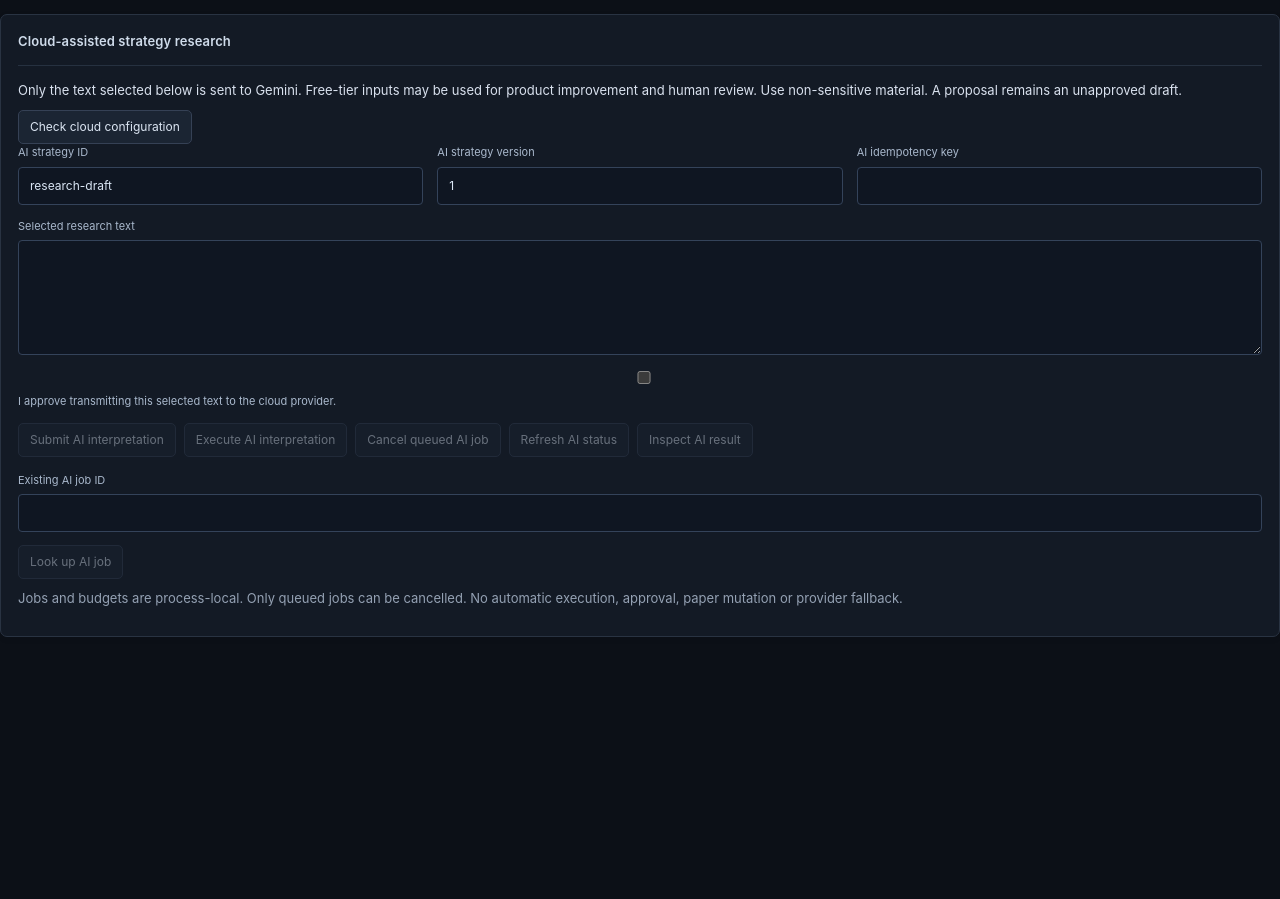
it: cloud research UI and authenticated routes › requires explicit configuration, input selection, consent and execution
Check: the button "Submit AI interpretation" is disabled, box [18,422,176,456]
Click the button "Check cloud configuration" at (105, 127), box [18,110,192,144]
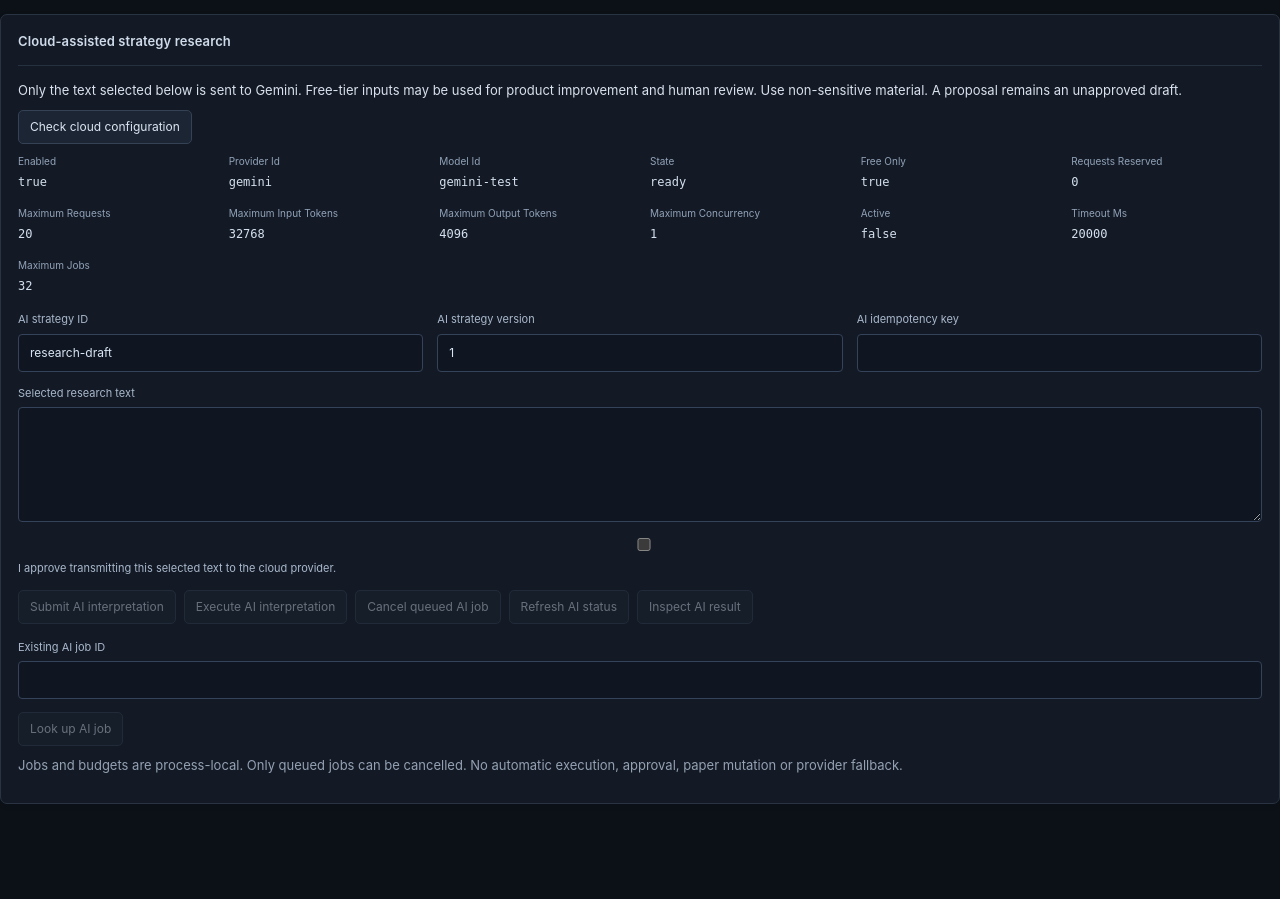
Type "selected-1" into the field labelled "AI idempotency key" at (1059, 352), box [857,334,1262,372]
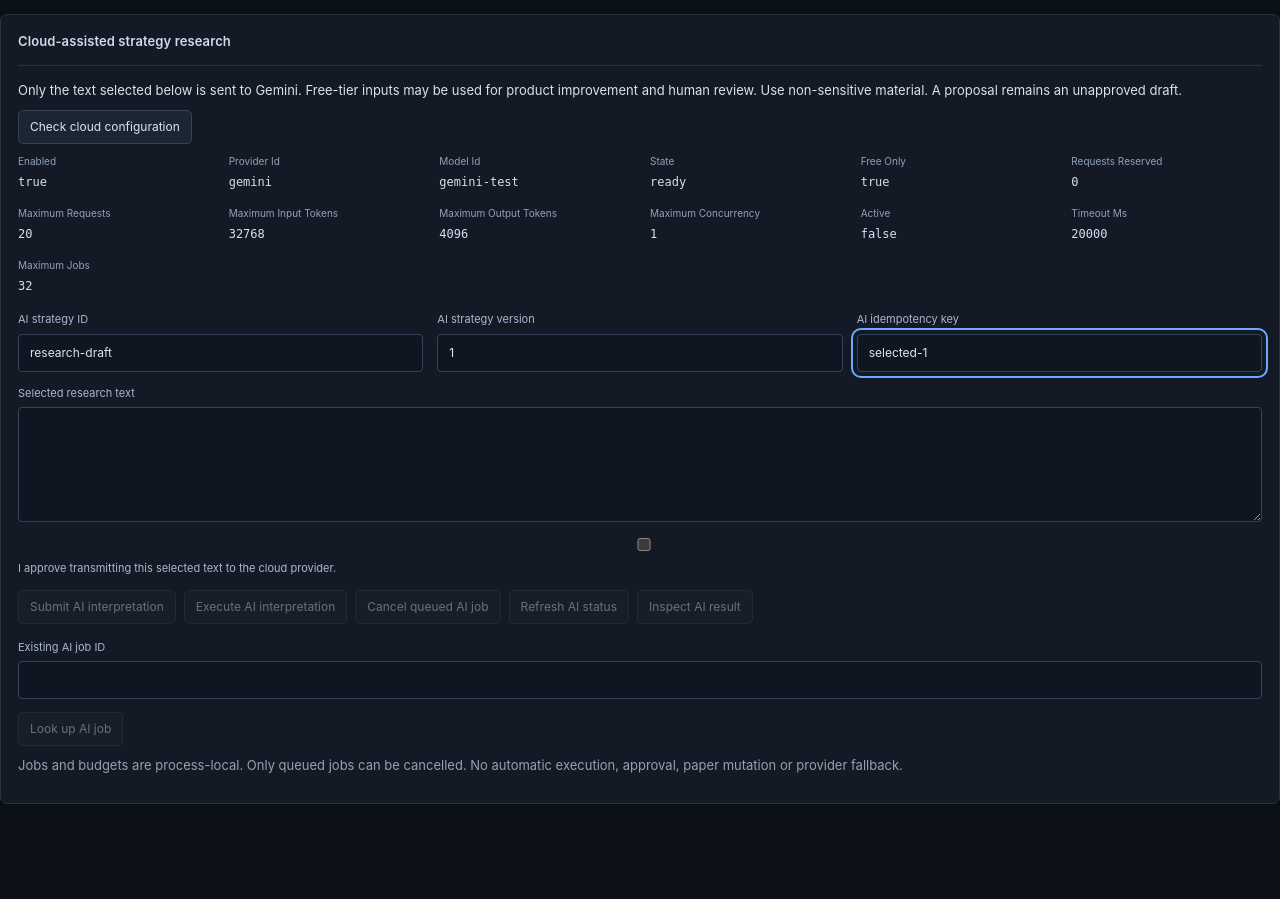
Type "Non-sensitive strategy instructions" into the text box labelled "Selected research text" at (640, 464), box [18,407,1262,522]
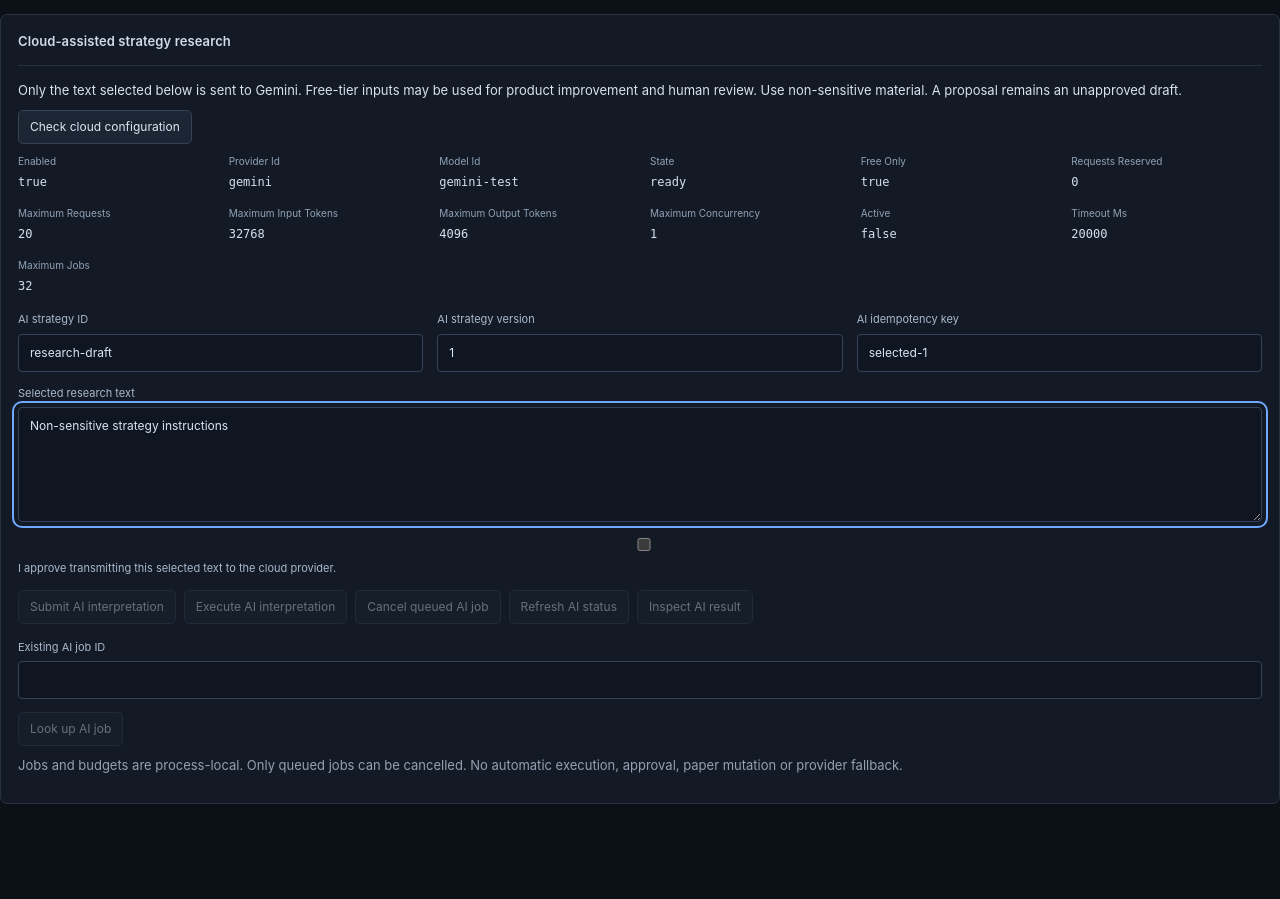
Click the checkbox labelled "I approve transmitting" at (644, 544), box [22,538,1266,551]
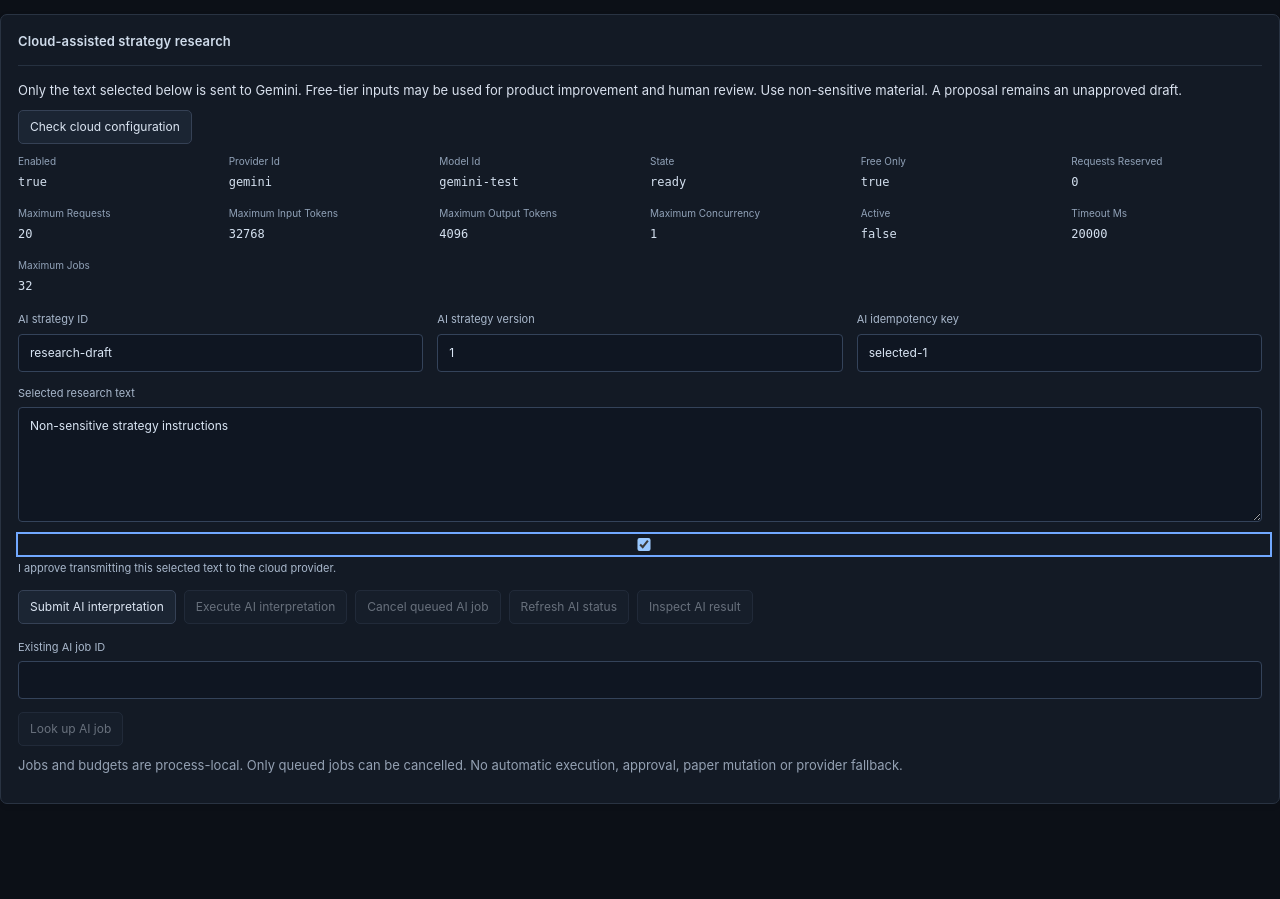
Click the button "Submit AI interpretation" at (97, 606), box [18,590,176,624]
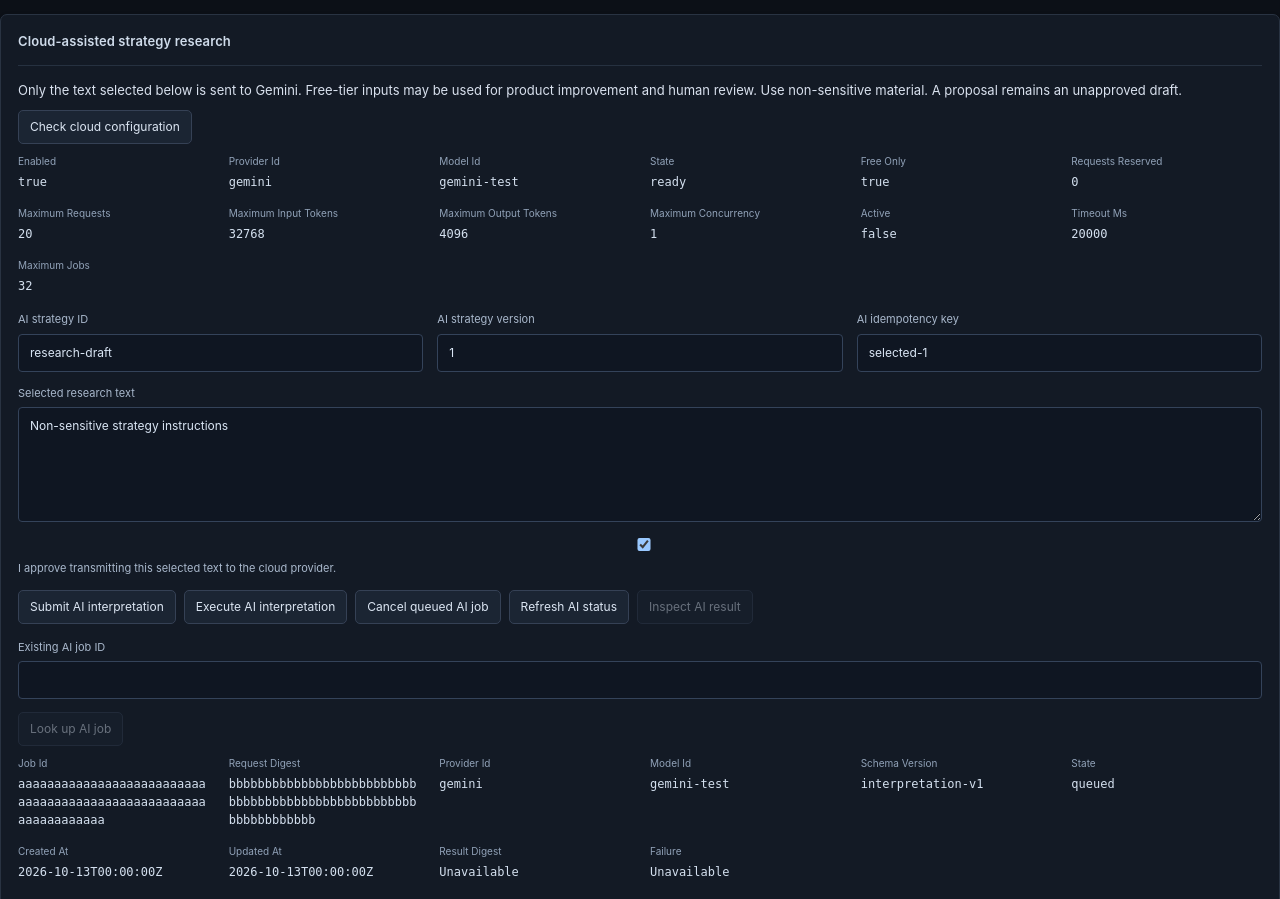
Click the button "Execute AI interpretation" at (266, 606), box [184,590,347,624]
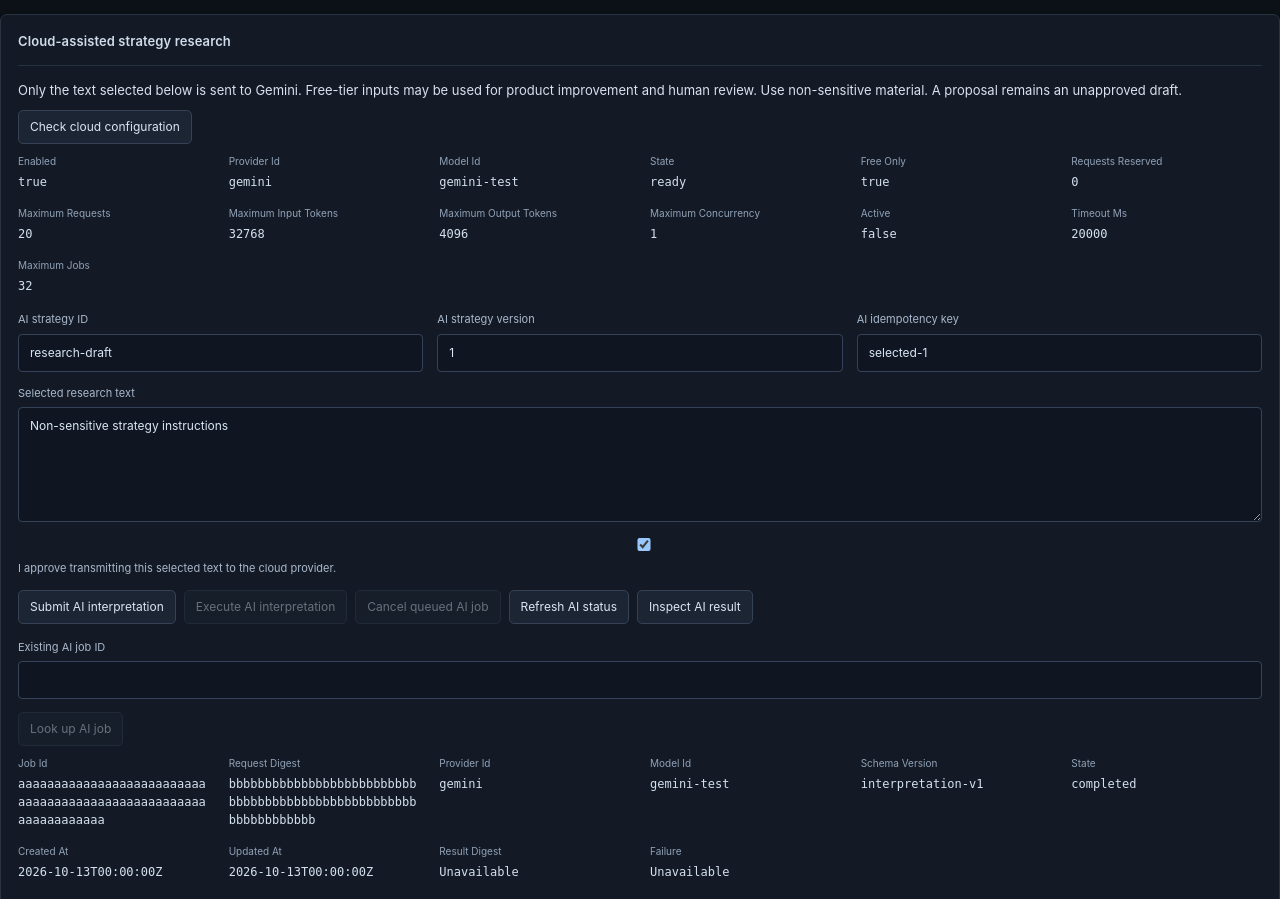
Check: the text "completed" is shown, box [1071,777,1136,791]
